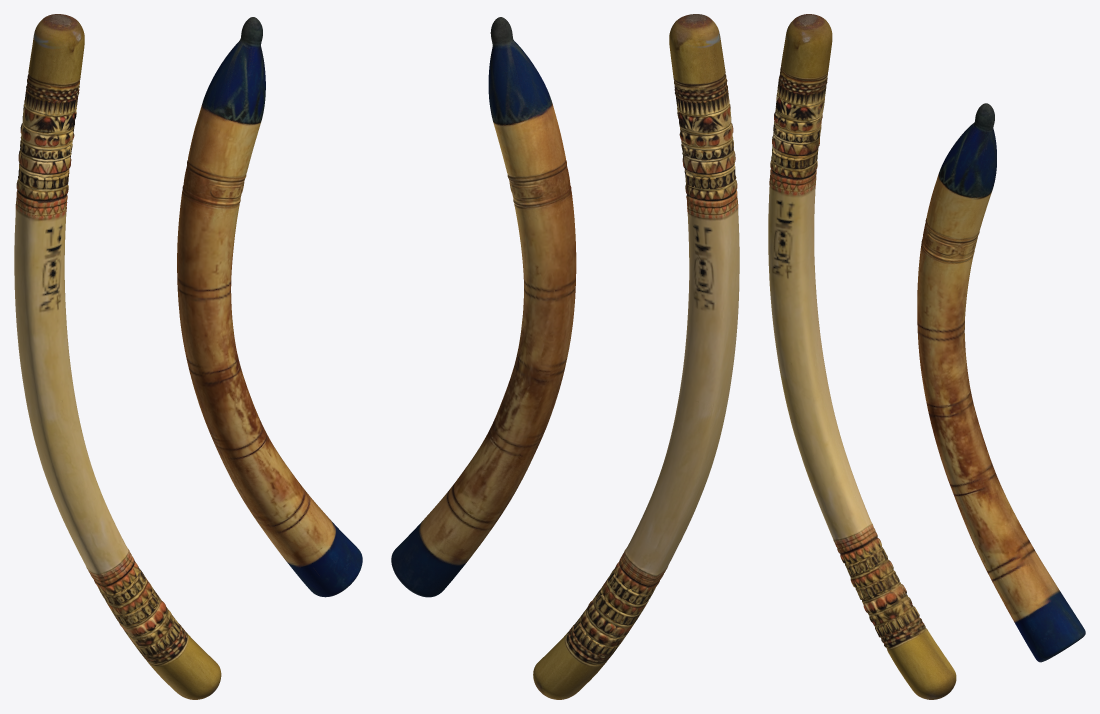
The model's file is meshy-curved-objects-original.glb.
3 views of the same model, side by side, from view 1: azimuth 30°, elevation 25°; view 2: azimuth 150°, elevation 25°; view 3: azimuth 330°, elevation 25° (orthographic). The views are drawn at different scales.
Size of the model in its own units: 0.9466 by 1.9 by 0.1516.
Materials: 1 (1 with a texture image).
